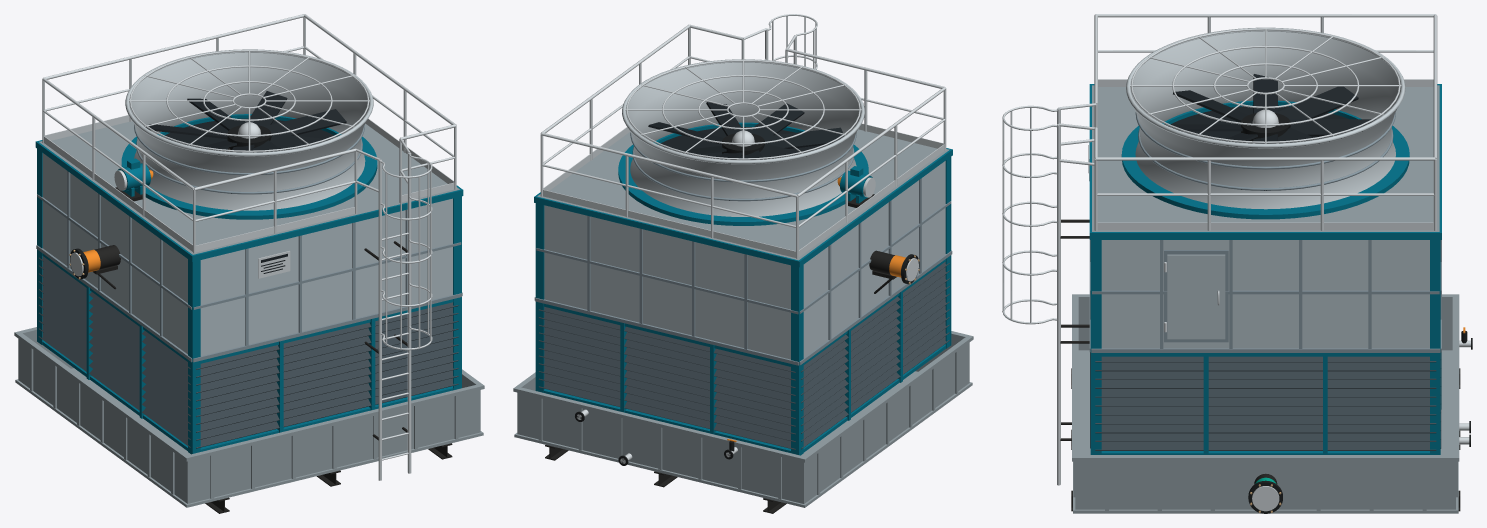
File: cooling-tower.glb
3 renders of one model, left to right at view 1: azimuth 30°, elevation 25°; view 2: azimuth 150°, elevation 25°; view 3: azimuth 270°, elevation 25°, orthographic. The views are drawn at different scales.
Visible parts, largest first — view 1: front tower casing wall panel, cold water collection basin, frp fan stack inner wall, left tower casing wall panel, frp fan stack outer wall, top fan maintenance deck, fan stack base flange, fan stack rolled top lip, front intake louver blade 4, front intake louver blade 1, front intake louver blade 3, front intake louver blade 2 (+59 smaller); view 2: back tower casing wall panel, cold water collection basin, left tower casing wall panel, frp fan stack inner wall, frp fan stack outer wall, top fan maintenance deck, fan stack base flange, fan stack rolled top lip, fan deck back edge trim, back intake louver blade 1, back intake louver blade 6, back intake louver blade 2 (+53 smaller); view 3: right tower casing wall panel, cold water collection basin, frp fan stack inner wall, top fan maintenance deck, frp fan stack outer wall, casing access door panel, fan stack base flange, right intake louver blade 2, right intake louver blade 3, right intake louver blade 5, right intake louver blade 9, right intake louver blade 4 (+40 smaller).
Boxes of the visible parts, box(x1,y1,x2,y2) form: front tower casing wall panel: box(200, 198, 452, 355); cold water collection basin: box(18, 328, 480, 503); frp fan stack inner wall: box(129, 52, 369, 134); left tower casing wall panel: box(42, 153, 187, 354); frp fan stack outer wall: box(133, 122, 365, 210); top fan maintenance deck: box(39, 121, 459, 254); fan stack base flange: box(121, 114, 377, 219); fan stack rolled top lip: box(125, 49, 373, 156); front intake louver blade 4: box(196, 346, 458, 416); front intake louver blade 1: box(196, 370, 458, 440); front intake louver blade 3: box(196, 354, 458, 424); front intake louver blade 2: box(196, 362, 458, 432); back tower casing wall panel: box(544, 205, 790, 359); cold water collection basin: box(517, 332, 969, 503); left tower casing wall panel: box(803, 161, 945, 357); frp fan stack inner wall: box(626, 62, 860, 142); frp fan stack outer wall: box(629, 130, 857, 216); top fan maintenance deck: box(537, 129, 949, 260); fan stack base flange: box(618, 122, 868, 225); fan stack rolled top lip: box(622, 59, 864, 164); fan deck back edge trim: box(534, 196, 800, 267); back intake louver blade 1: box(539, 373, 795, 442); back intake louver blade 6: box(539, 335, 795, 403); back intake louver blade 2: box(539, 365, 795, 434); right tower casing wall panel: box(1101, 240, 1429, 348); cold water collection basin: box(1075, 295, 1455, 509); frp fan stack inner wall: box(1131, 31, 1400, 122); top fan maintenance deck: box(1092, 85, 1439, 231); frp fan stack outer wall: box(1134, 108, 1397, 209); casing access door panel: box(1167, 254, 1225, 339); fan stack base flange: box(1121, 100, 1409, 219); right intake louver blade 2: box(1095, 424, 1436, 433); right intake louver blade 3: box(1095, 415, 1436, 424); right intake louver blade 5: box(1095, 397, 1436, 406); right intake louver blade 9: box(1095, 362, 1436, 371); right intake louver blade 4: box(1095, 406, 1436, 415).
Size of the model in its own units: 5.44 by 4.83 by 5.68.
